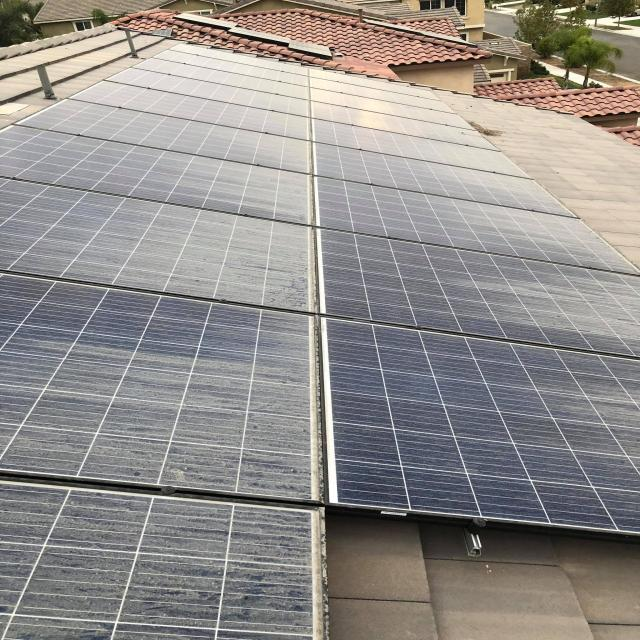dust-solar-panel: (2, 42, 637, 640)
